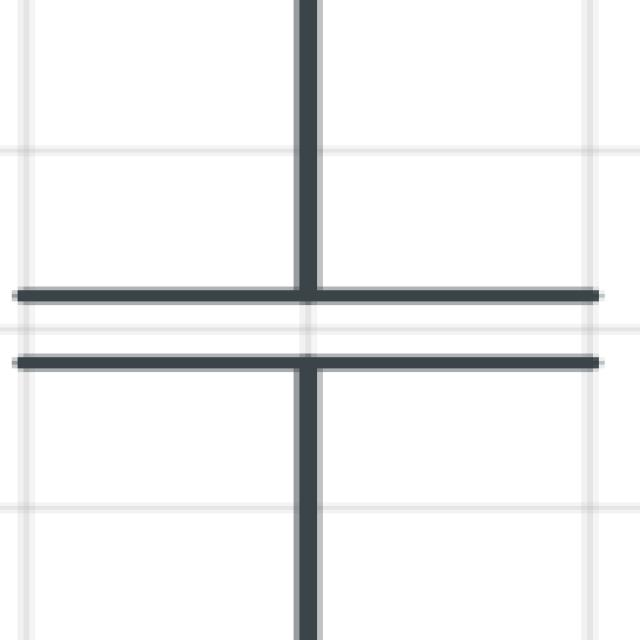cap: (7, 5, 631, 632)
